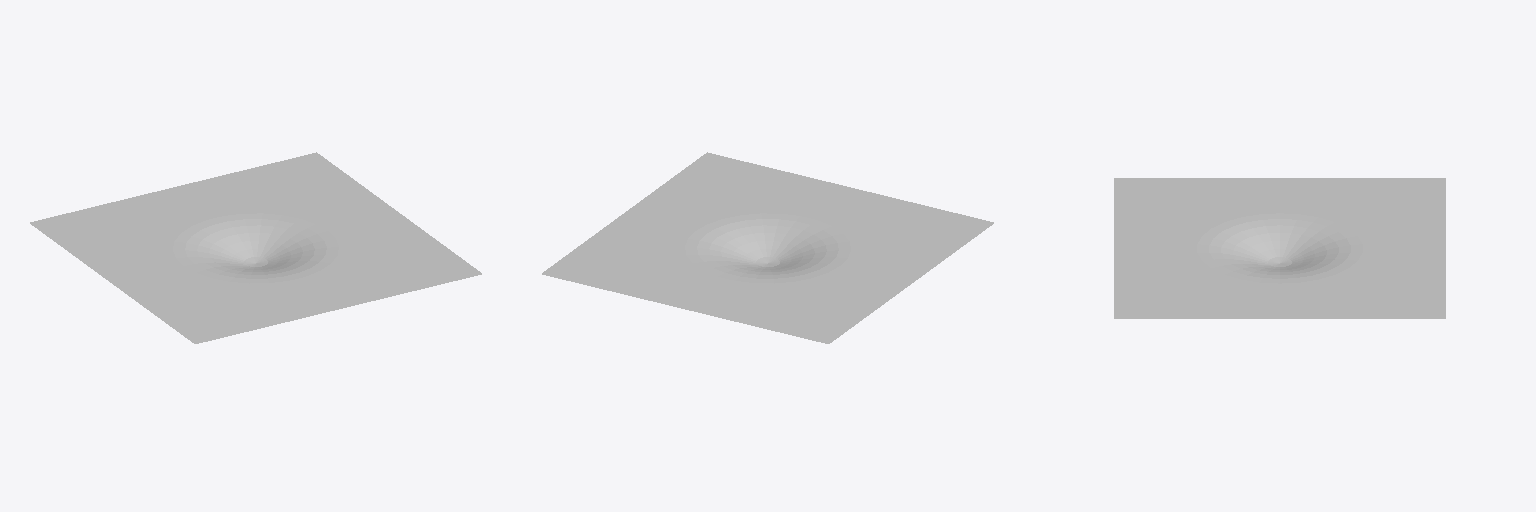
Rendered from Prop_Ground_Bump_Round_Inverted.obj.
3 renders of one model, left to right at view 1: azimuth 30°, elevation 25°; view 2: azimuth 150°, elevation 25°; view 3: azimuth 270°, elevation 25°, orthographic.
Parts seen in each view (by area): view 1: object1; view 2: object1; view 3: object1.
Part boxes in pixels (x1,y1,x2,y2): object1: (30,152,481,343); object1: (542,152,993,343); object1: (1114,178,1445,318).
Size of the model in its own units: 1 by 0.05 by 1.